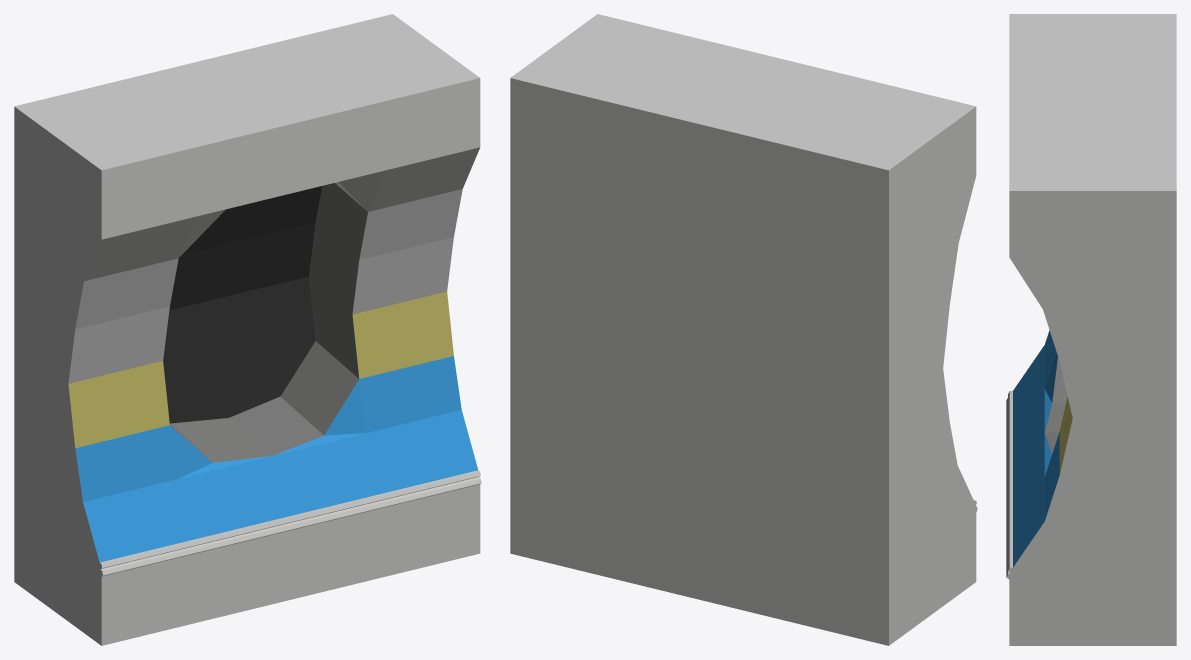
File: SM_HalfWall_Var1.fbx
3 views of the same model, side by side, from view 1: azimuth 30°, elevation 25°; view 2: azimuth 150°, elevation 25°; view 3: azimuth 270°, elevation 25° (orthographic). The views are drawn at different scales.
Parts seen in each view (by area): view 1: SM_Wall_HalfEdge_Var3.001; view 2: SM_Wall_HalfEdge_Var3.001; view 3: SM_Wall_HalfEdge_Var3.001.
Boxes of the visible parts, bbox=[...] form: SM_Wall_HalfEdge_Var3.001: bbox=[14, 14, 481, 645]; SM_Wall_HalfEdge_Var3.001: bbox=[510, 14, 977, 645]; SM_Wall_HalfEdge_Var3.001: bbox=[1006, 14, 1176, 645].
Size of the model in its own units: 500 by 600 by 203.
